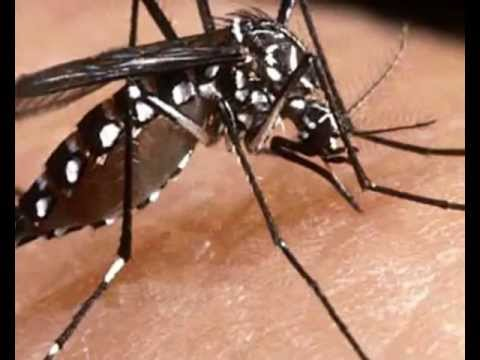dengue_mosquito: (15, 1, 464, 260)
